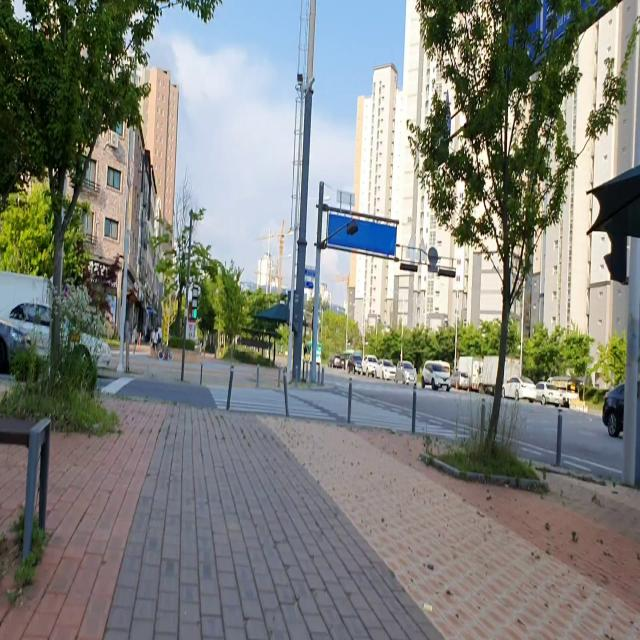초록불: (190, 286, 200, 321)
횡단보도: (204, 382, 470, 442)
